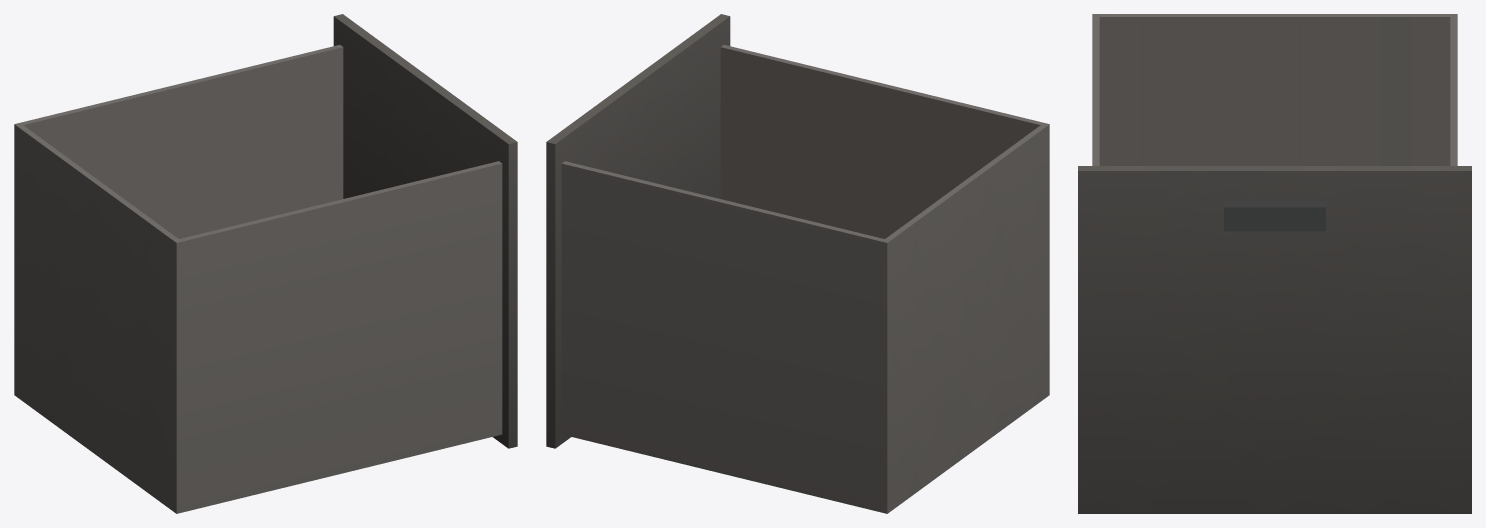
File: Drawer_Large_Corner_Booth_Gray.fbx
3 views of the same model, side by side, from view 1: azimuth 30°, elevation 25°; view 2: azimuth 150°, elevation 25°; view 3: azimuth 270°, elevation 25° (orthographic). The views are drawn at different scales.
Parts seen in each view (by area): view 1: Drawer_Large_Corner_Booth_Gray; view 2: Drawer_Large_Corner_Booth_Gray; view 3: Drawer_Large_Corner_Booth_Gray.
Boxes of the visible parts, box(x1,y1,x2,y2) form: Drawer_Large_Corner_Booth_Gray: box(14, 14, 517, 513); Drawer_Large_Corner_Booth_Gray: box(546, 14, 1049, 513); Drawer_Large_Corner_Booth_Gray: box(1078, 14, 1471, 513).
Bounding box in the file's own units: 45.97 × 38.22 × 39.78.
